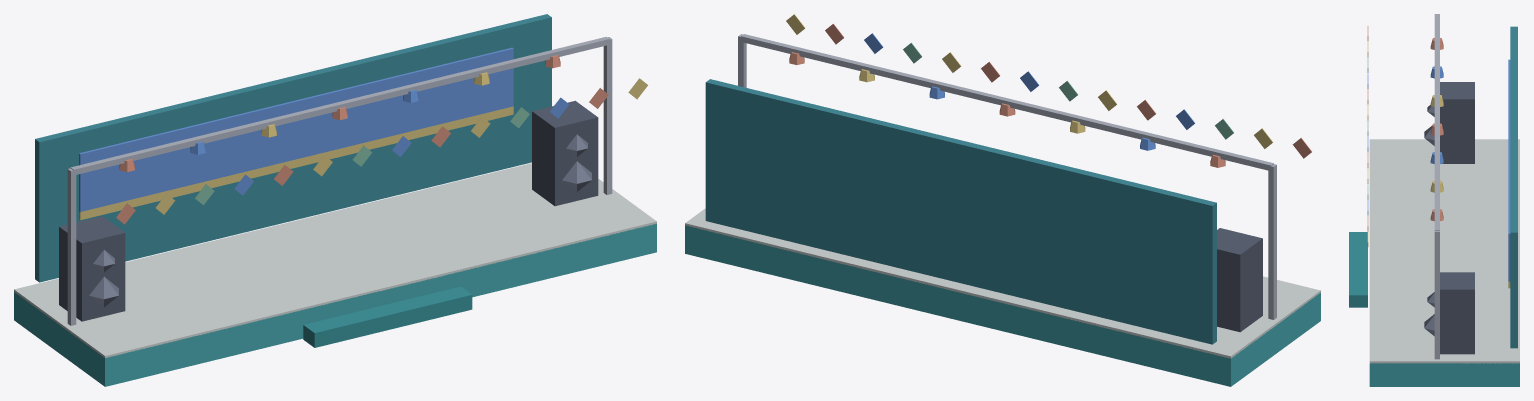
The model's file is event_stage.glb.
3 renders of one model, left to right at view 1: azimuth 30°, elevation 25°; view 2: azimuth 150°, elevation 25°; view 3: azimuth 270°, elevation 25°, orthographic. The views are drawn at different scales.
Bounding box in the file's own units: 14 × 4.52 × 4.55.
